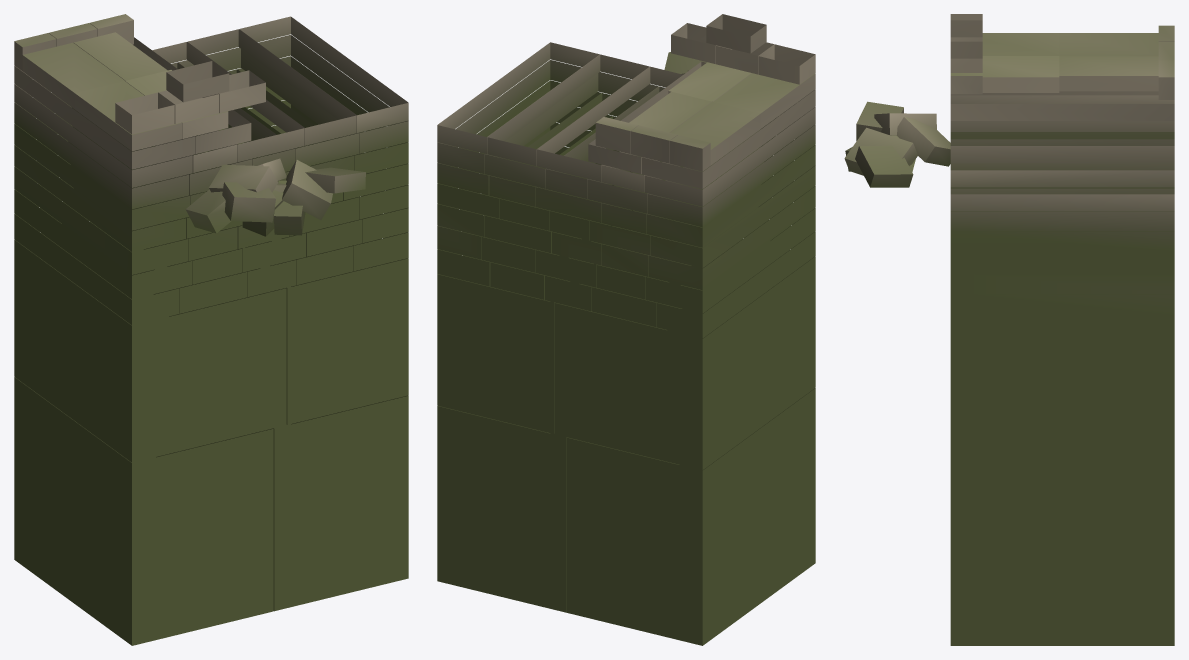
Rendered from harbour_mole_broken_mid.glb.
3 renders of one model, left to right at view 1: azimuth 30°, elevation 25°; view 2: azimuth 150°, elevation 25°; view 3: azimuth 270°, elevation 25°, orthographic. The views are drawn at different scales.
Visible parts, largest first — view 1: harbour_mole_broken_mid; view 2: harbour_mole_broken_mid; view 3: harbour_mole_broken_mid.
Boxes of the visible parts, x1=… form: harbour_mole_broken_mid: x1=14, y1=14, x2=408, y2=645; harbour_mole_broken_mid: x1=437, y1=14, x2=815, y2=645; harbour_mole_broken_mid: x1=844, y1=14, x2=1174, y2=645.
Bounding box in the file's own units: 18.97 × 35.97 × 20.64.
